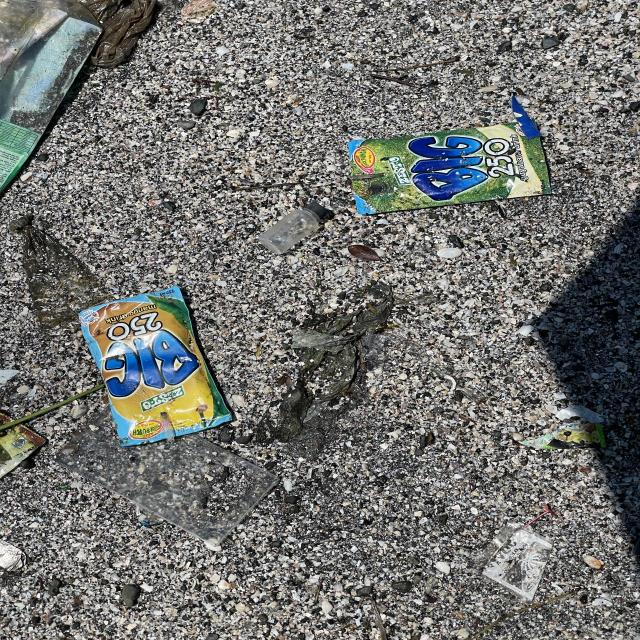litter: (77, 286, 233, 448), (348, 95, 554, 217), (0, 1, 106, 218), (0, 379, 106, 432), (514, 407, 610, 453)
